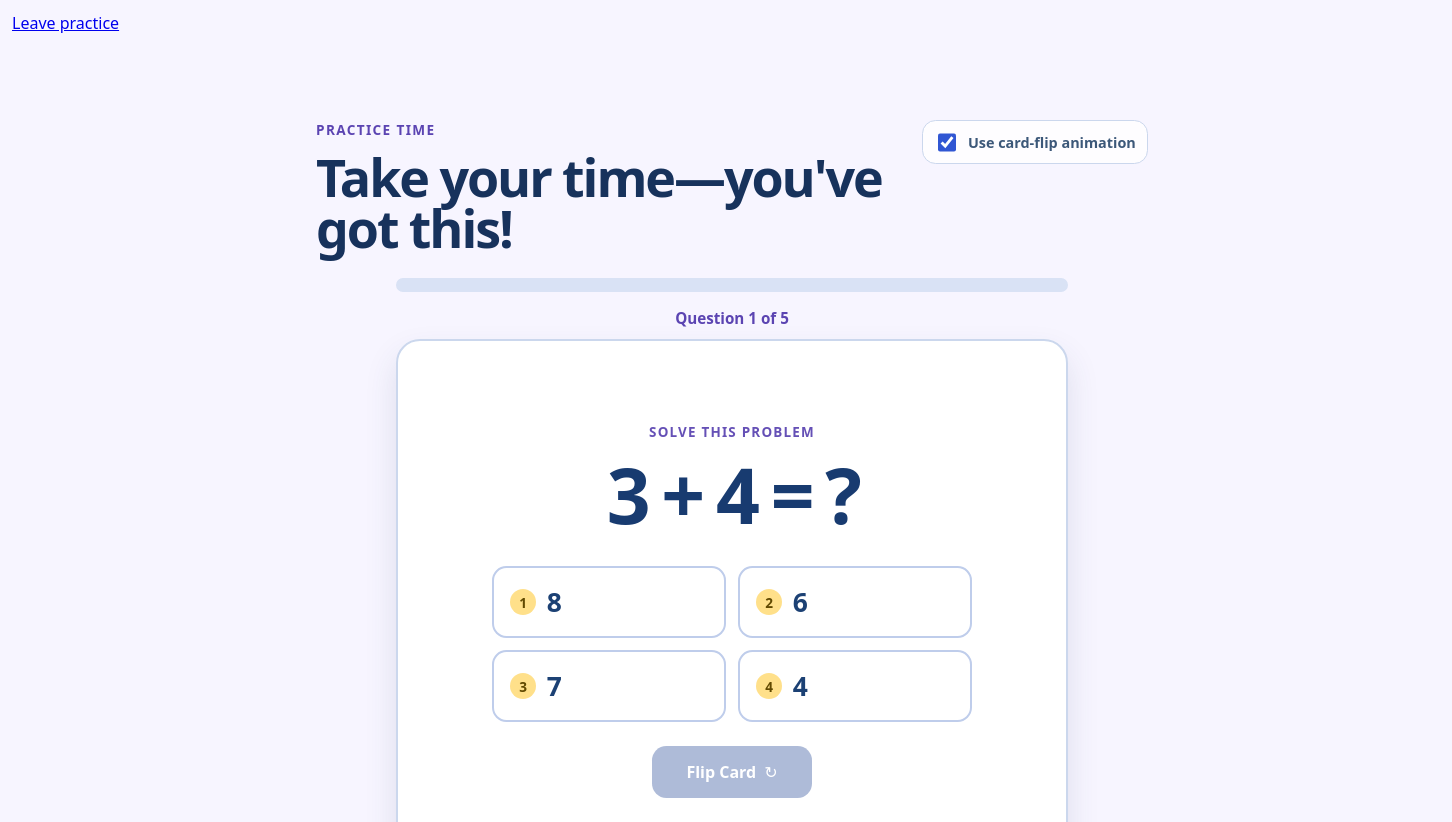
Test: PracticeSessionPage › records correct review progress on the source mistake pattern
This screenshot has width=1452, height=822.
Click the button named "answer choice 1:".
click(609, 602)  # box [492, 566, 726, 638]
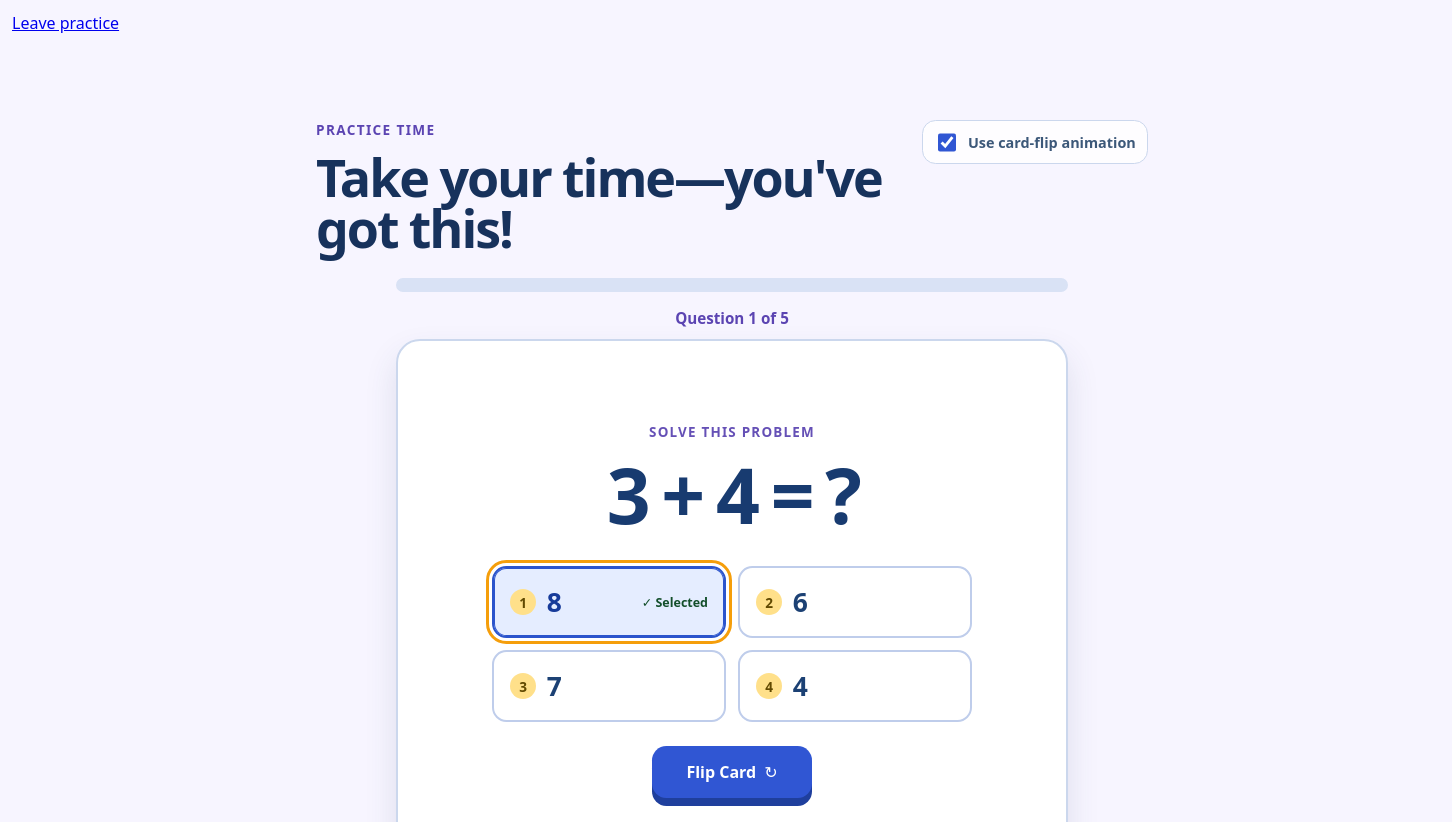
Click the button "Flip Card ↻".
click(732, 772)  # box [652, 746, 812, 798]
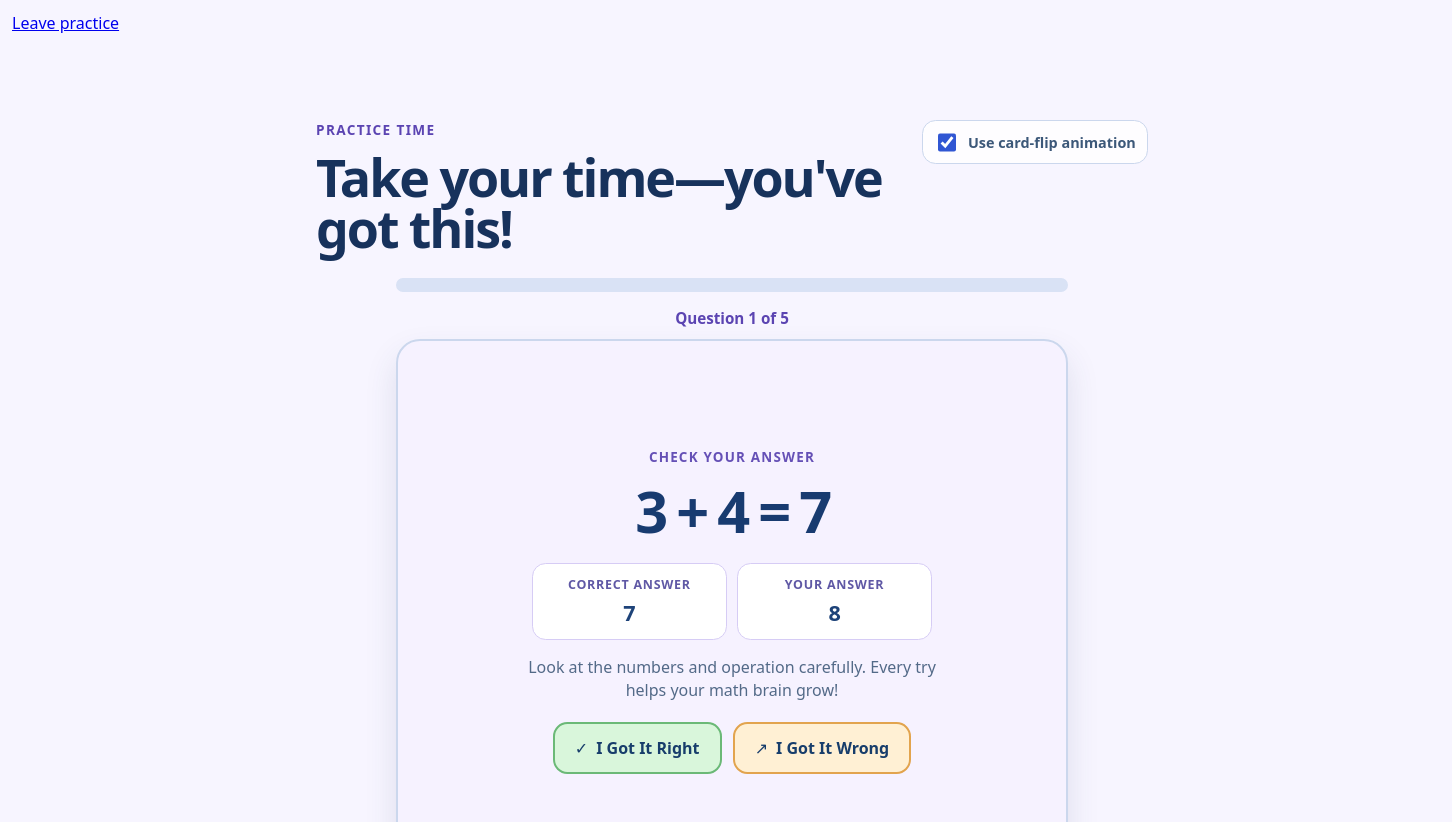
Click the button "✓ I Got It Right".
click(637, 748)  # box [553, 722, 722, 774]
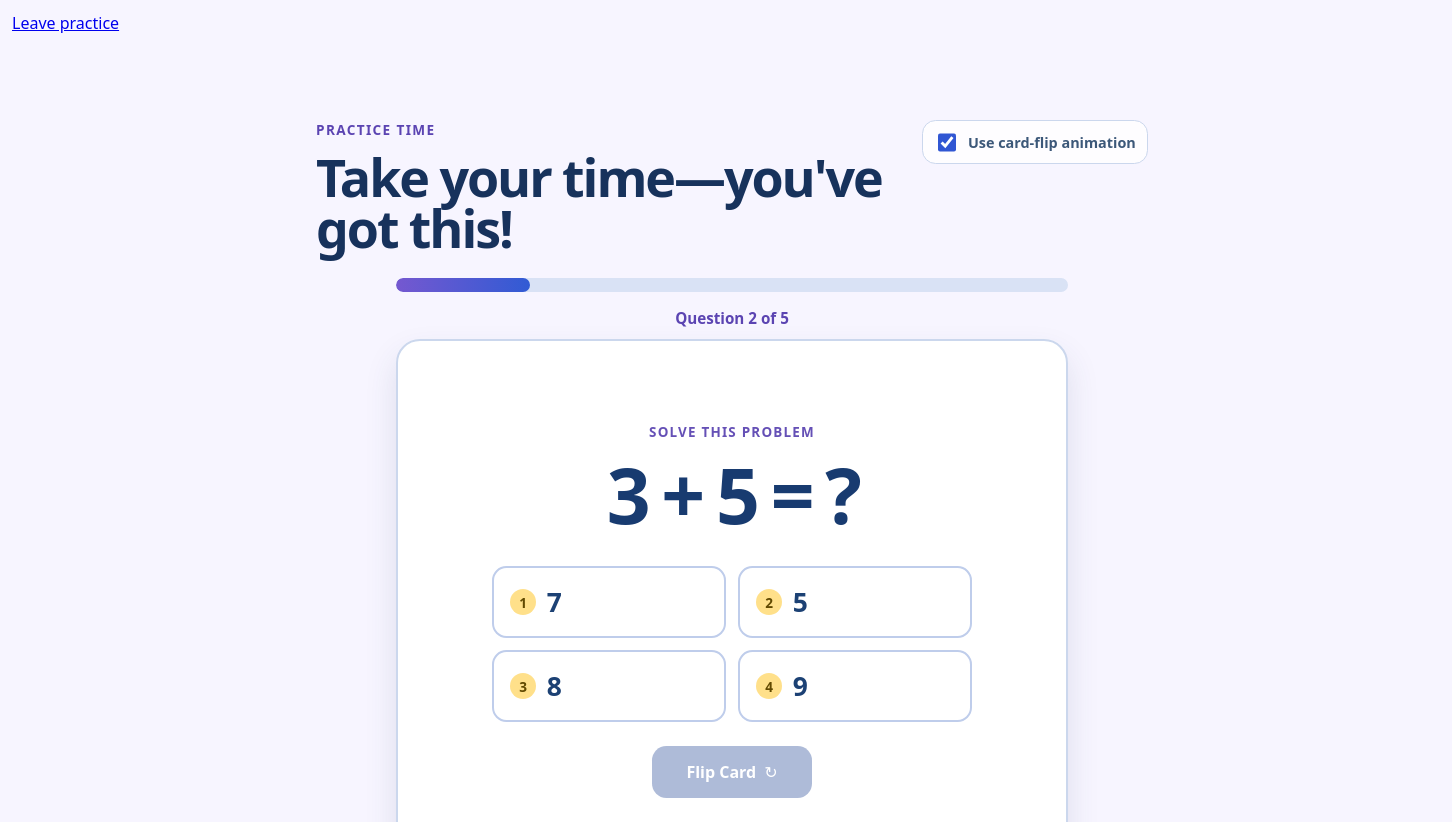
Expected: the text "Question 2 of 5" is shown, [675, 308, 789, 328]
